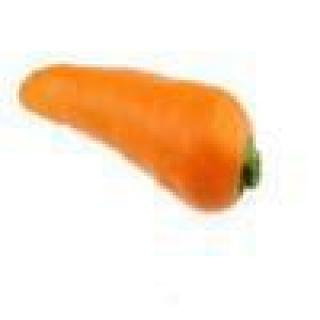Wortel: (8, 49, 277, 225)
